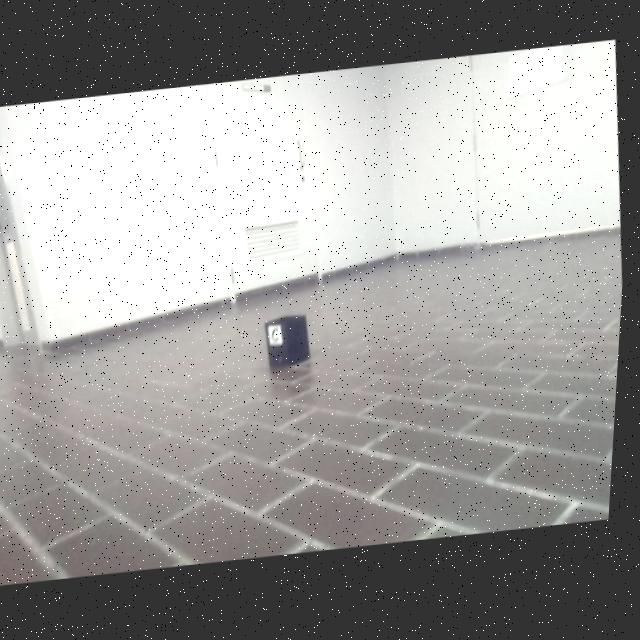C: (275, 329, 283, 342)
